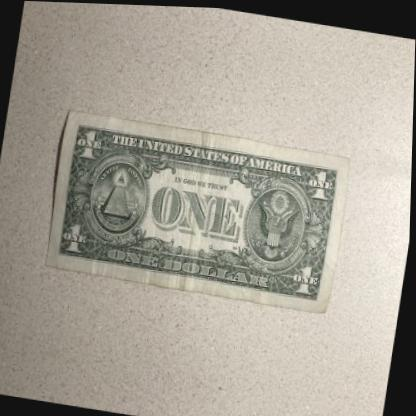dollar_back: (43, 106, 354, 313)
